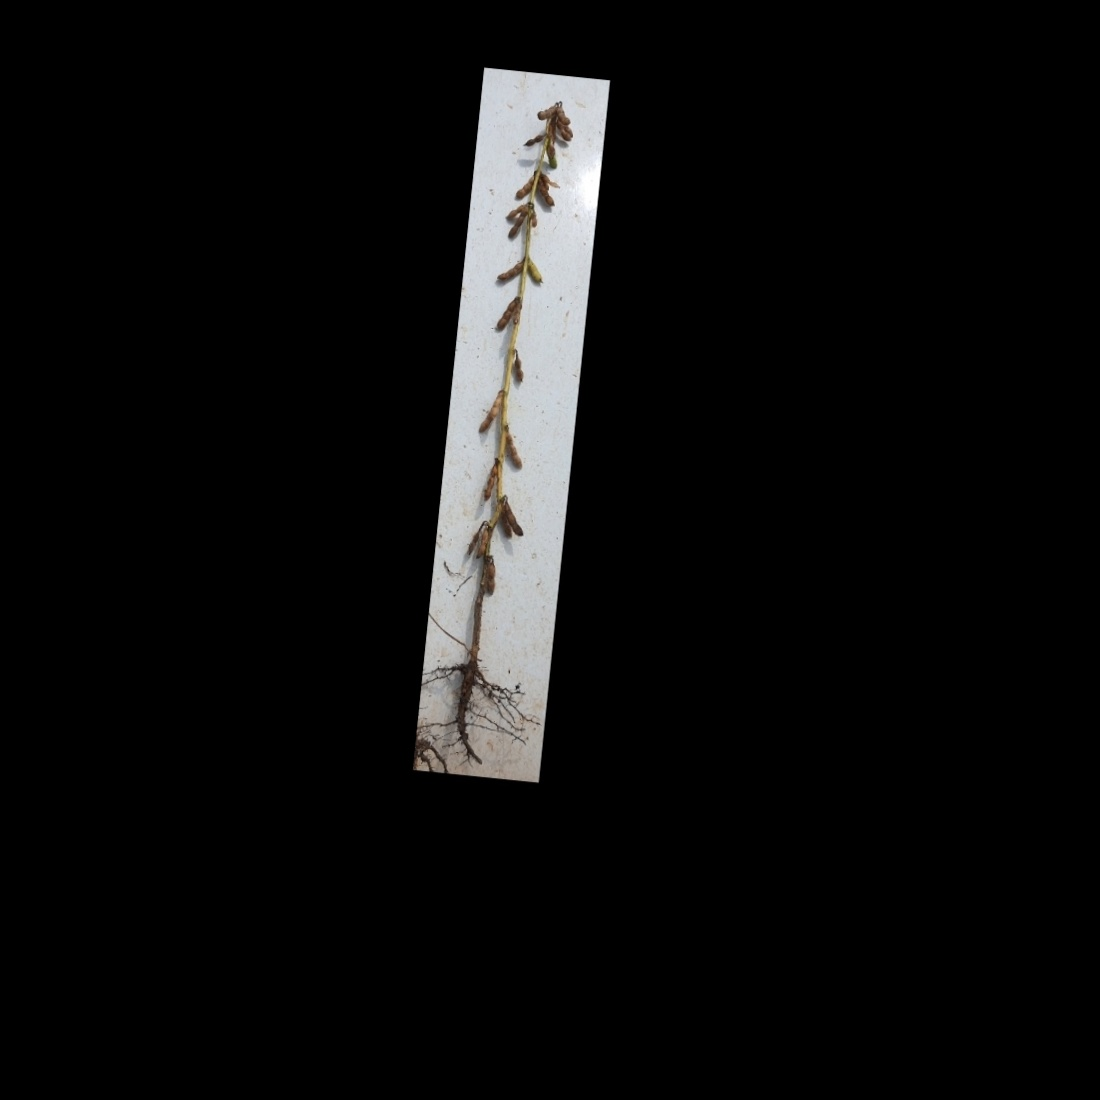pod: (477, 386, 506, 437), (494, 250, 528, 285), (502, 430, 527, 473), (494, 294, 521, 332), (512, 170, 540, 201), (523, 253, 547, 288), (509, 347, 528, 386), (482, 461, 500, 503), (483, 558, 500, 597), (521, 127, 549, 149), (464, 527, 482, 557), (475, 527, 491, 559), (529, 207, 540, 229)
soy: (429, 89, 585, 766)
